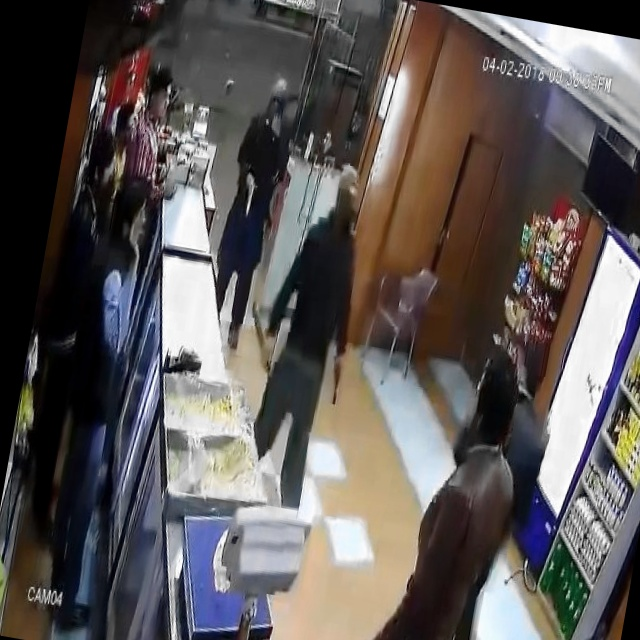gun: (235, 164, 261, 225), (325, 356, 347, 409)
